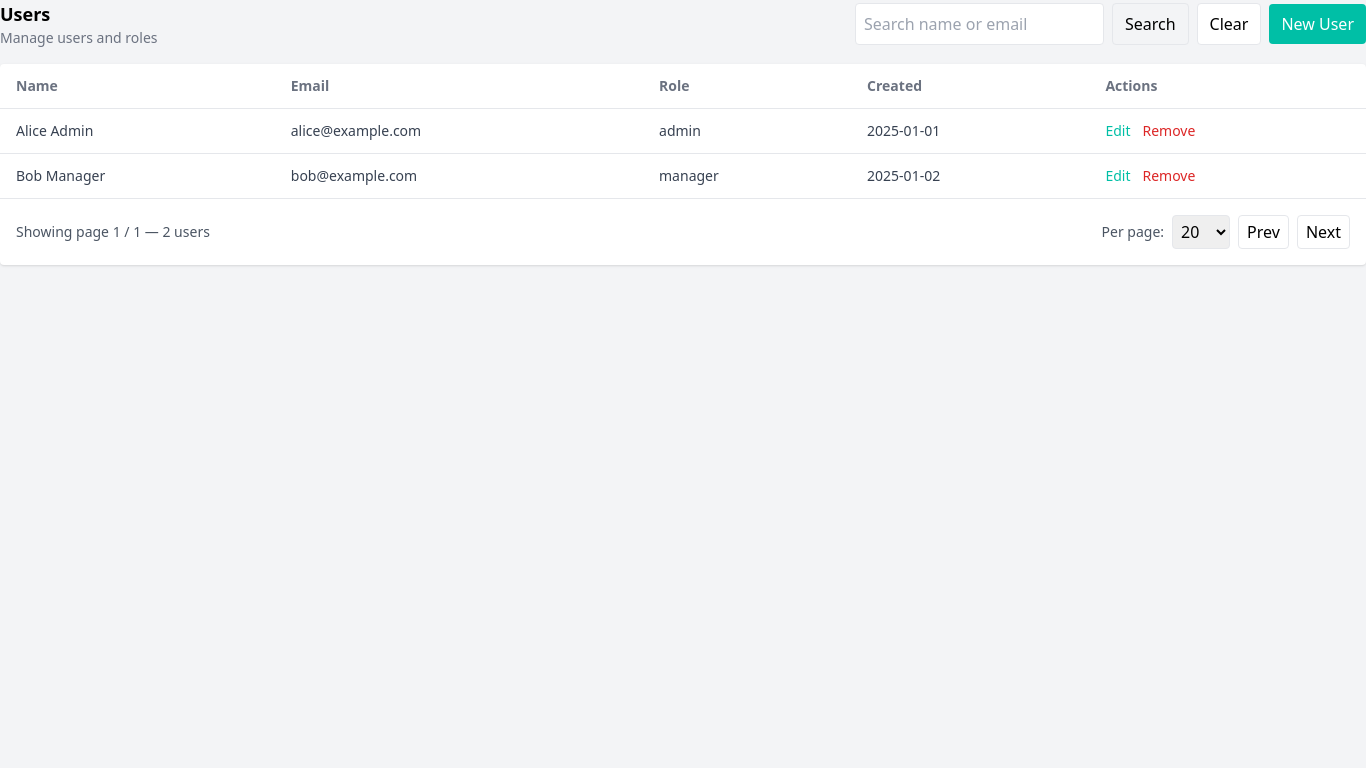
/admin/users flows › edits a user and reflects changes
The image size is (1366, 768).
Expected: the text "Alice Admin" is shown, [0,108,275,154]
Note: click Edit on Alice
Click the button "Edit" in the row of "Alice Admin" at (1118,131), box [1105,121,1130,141]
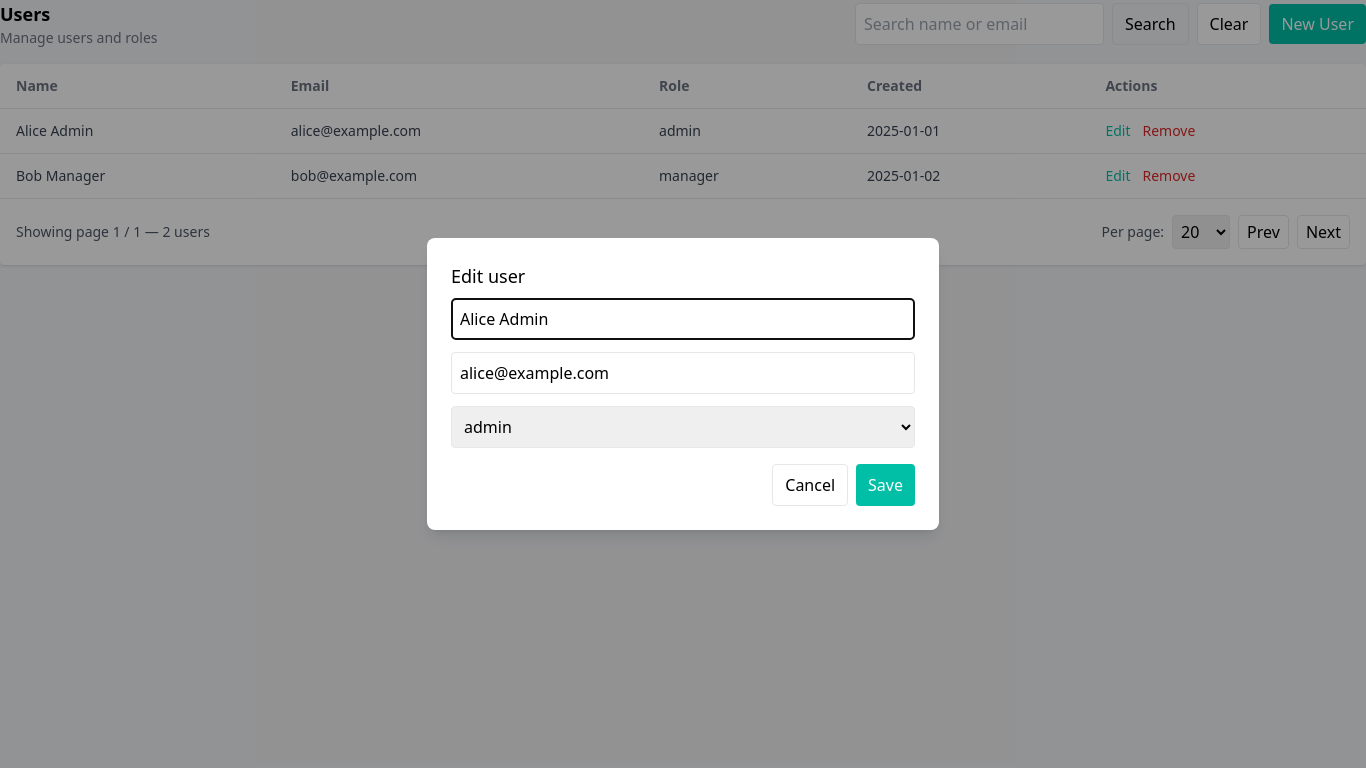
Replace the text in the 1st field with placeholder "Full name" with "Alice Updated" at (683,319), box [451,298,915,340]
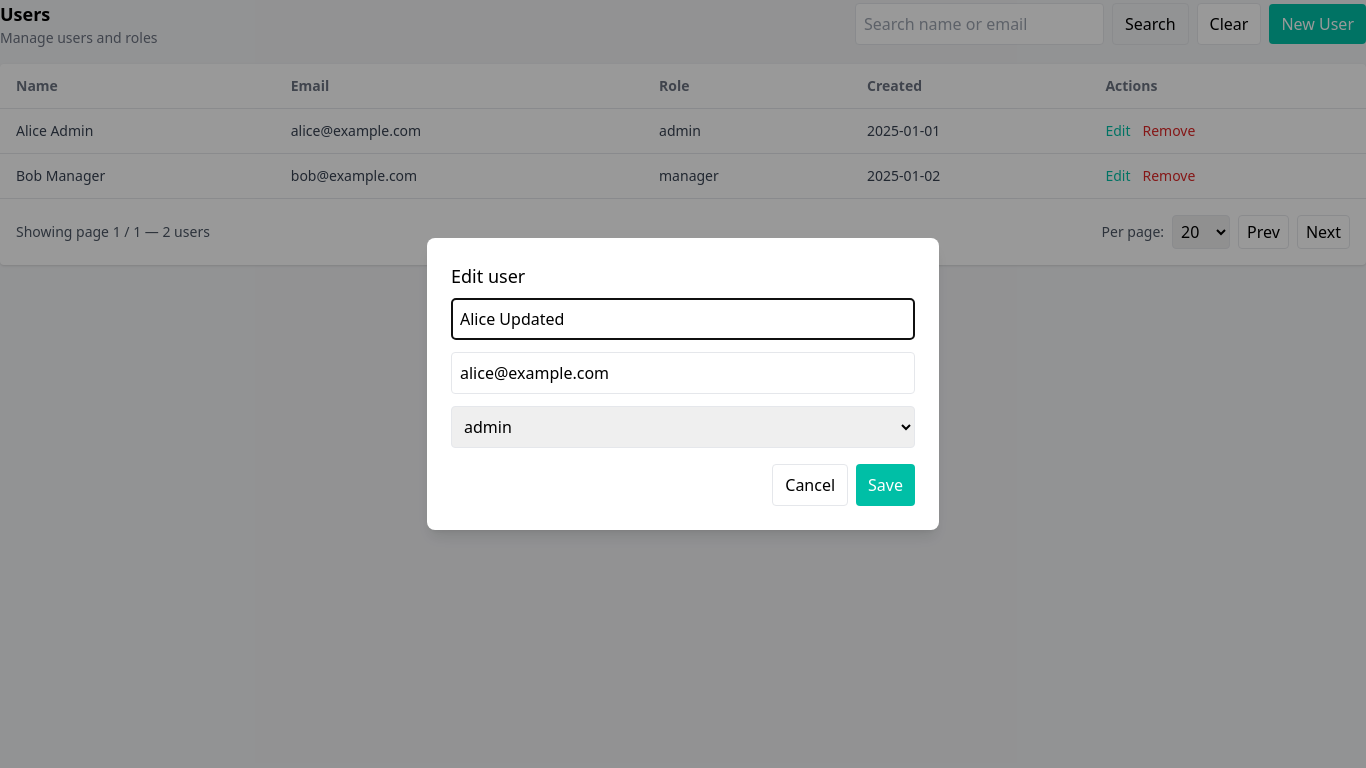
Click the button "Save" at (886,485), box [856,464,915,506]
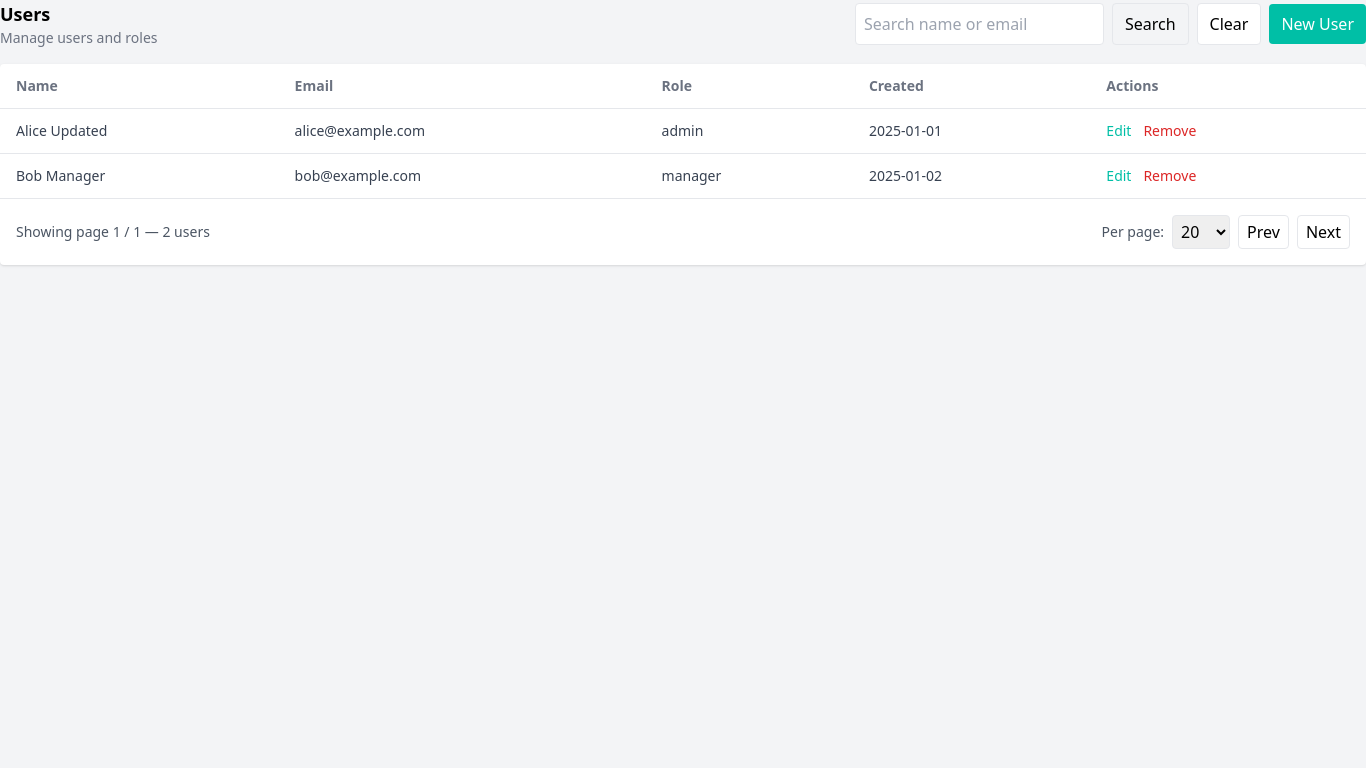
Expected: the text "Alice Updated" is shown, [0,108,279,154]
